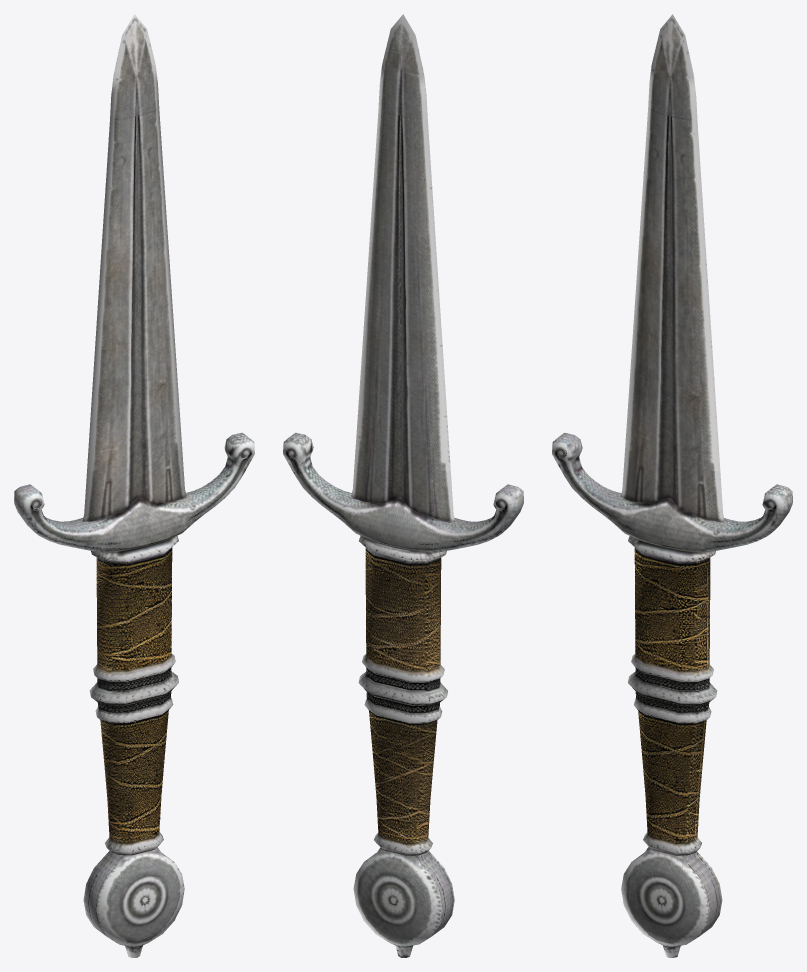
Rendered from w_dagger_t1.glb.
3 renders of one model, left to right at view 1: azimuth 30°, elevation 25°; view 2: azimuth 150°, elevation 25°; view 3: azimuth 330°, elevation 25°, orthographic.
Parts seen in each view (by area): view 1: Dagger:0; view 2: Dagger:0; view 3: Dagger:0.
Boxes of the visible parts, x1,y1,x2,y2 form: Dagger:0: (14,14,254,957); Dagger:0: (283,14,523,957); Dagger:0: (552,14,792,957).
Bounding box in the file's own units: 8.27 × 31.71 × 1.79.
Materials: 1 (1 with a texture image).
